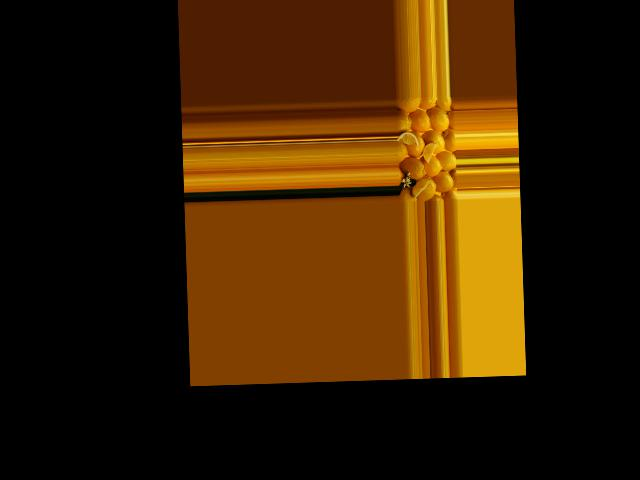lemon: (395, 110, 415, 133)
